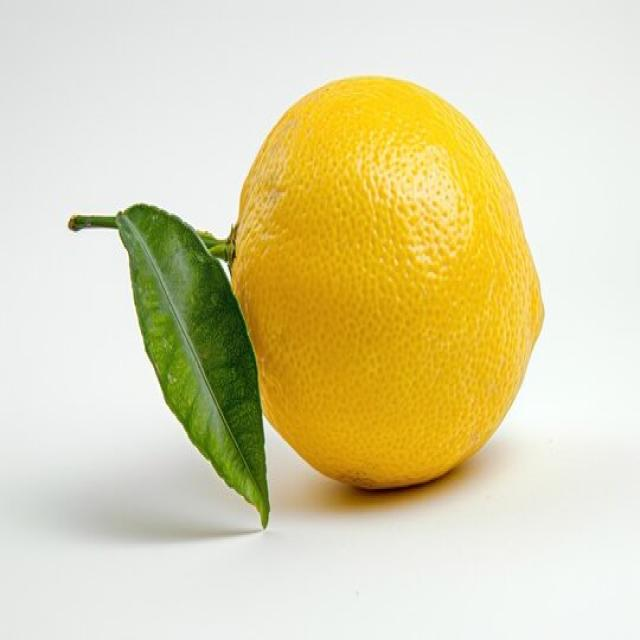Lemon: (229, 73, 544, 491)
